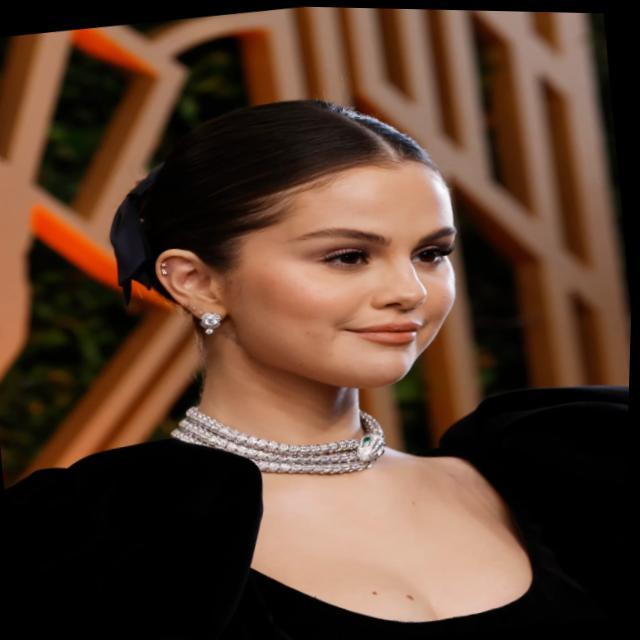Nonhelmet: (106, 94, 465, 394)
